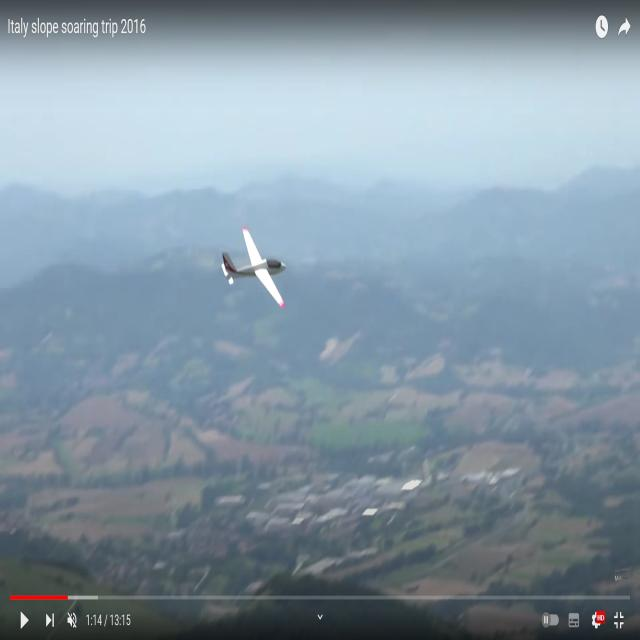iha: (253, 261, 256, 277)
